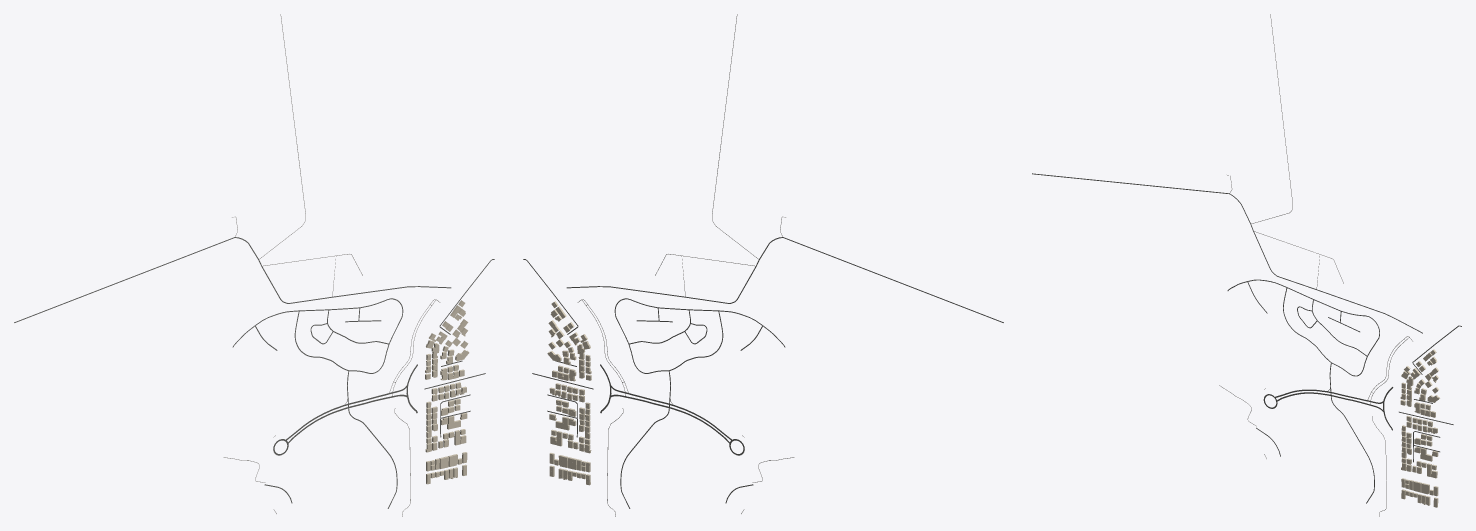
File: aqaba_3499_2956.glb
3 renders of one model, left to right at view 1: azimuth 30°, elevation 25°; view 2: azimuth 150°, elevation 25°; view 3: azimuth 330°, elevation 25°, orthographic. The views are drawn at different scales.
Parts seen in each view (by area): view 1: Road .007; view 2: Road .007; view 3: Road .007.
Boxes of the visible parts, <box> form: Road .007: <box>14,237,451,322</box>; Road .007: <box>566,237,1003,322</box>; Road .007: <box>1032,173,1422,333</box>.
Bounding box in the file's own units: 1697 × 1796 × 8.7.
